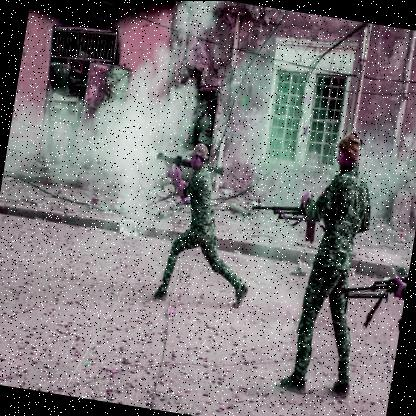rifle: (244, 191, 334, 250), (334, 261, 408, 330), (151, 147, 225, 187)
